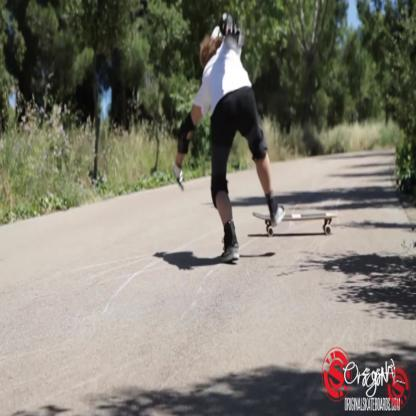Fall_Down: (170, 8, 287, 267)
